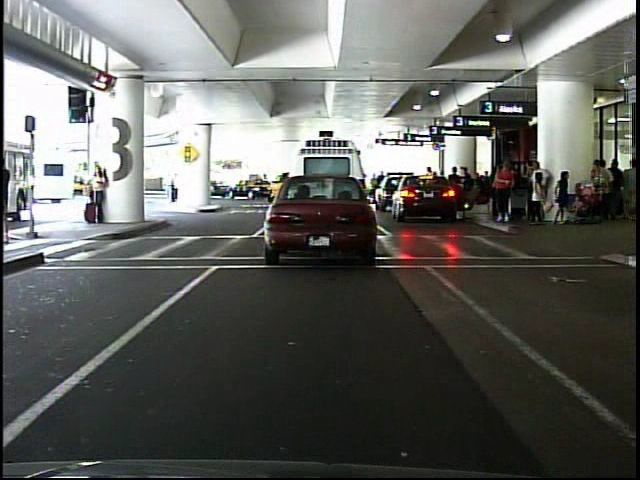person: (86, 159, 110, 225), (1, 151, 18, 242), (495, 160, 516, 225), (158, 162, 185, 205)
